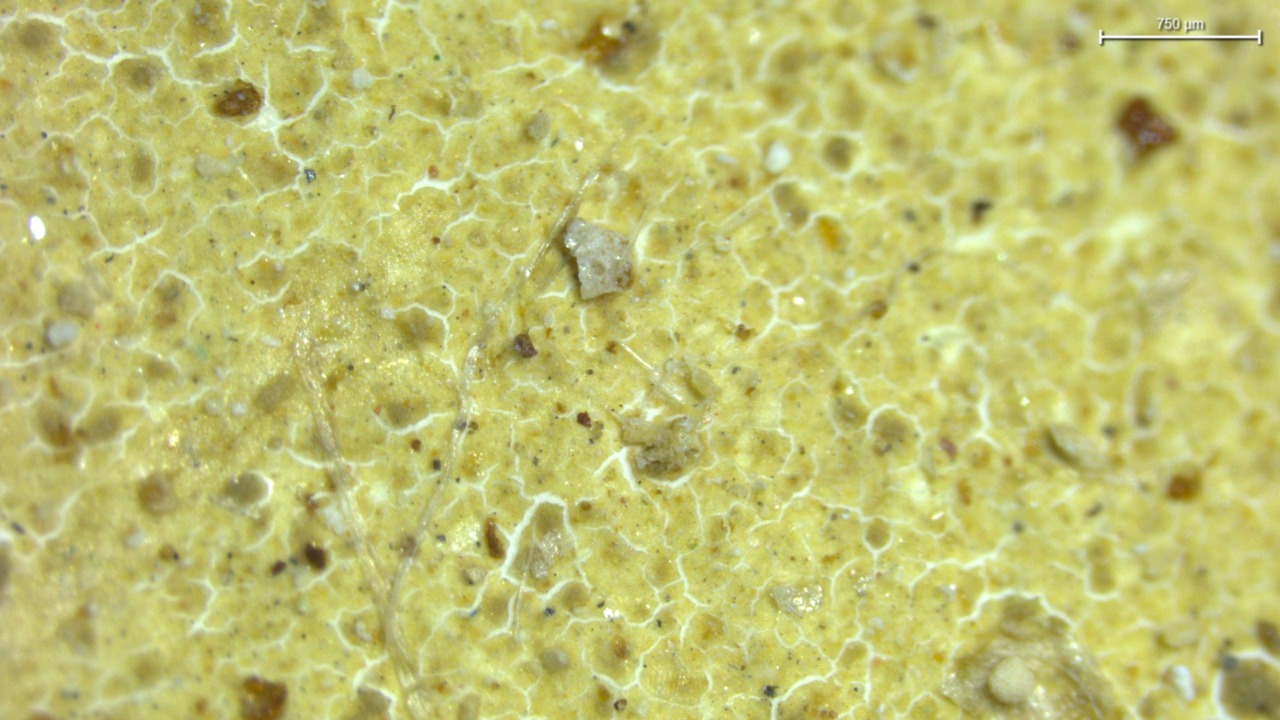microplastic_fragment: (564, 218, 632, 299), (764, 140, 792, 174)
